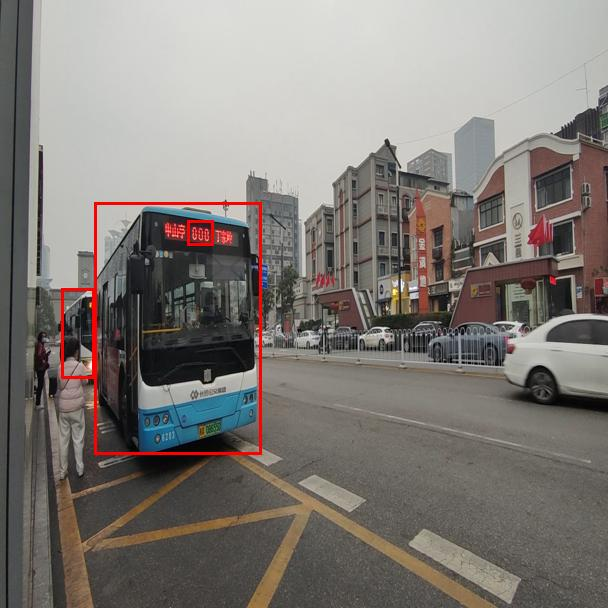bus: (94, 202, 261, 454), (61, 288, 94, 378)
screen: (187, 220, 213, 245)
